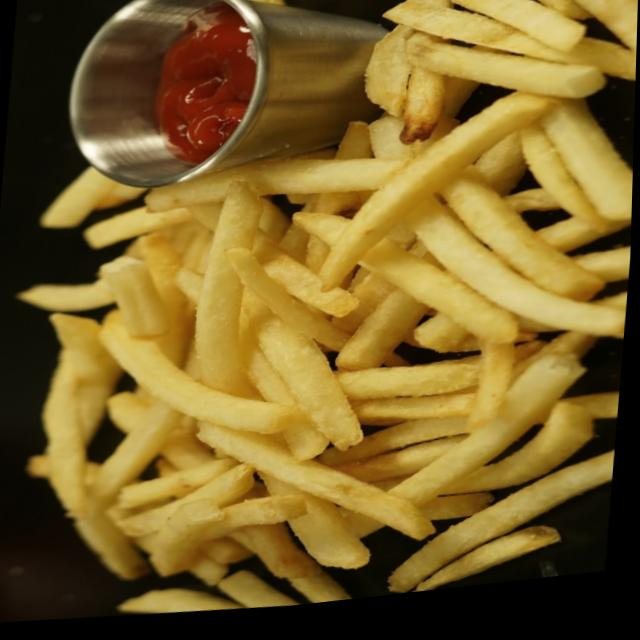frenchfries: (0, 0, 640, 639)
